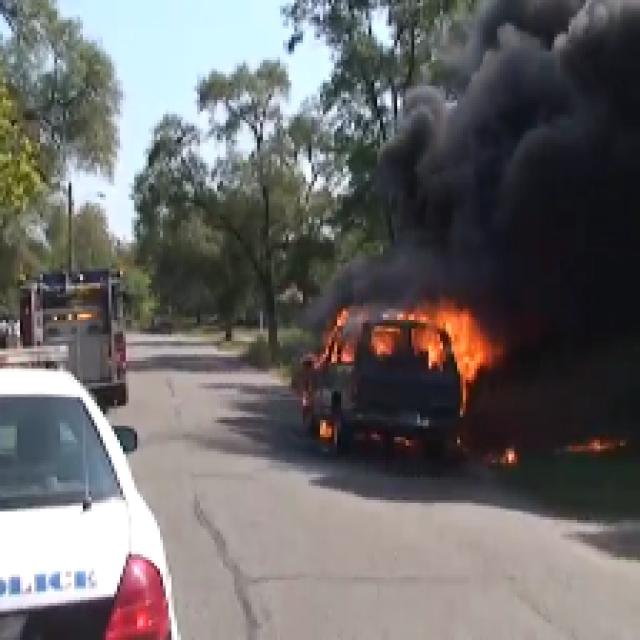fire: (408, 304, 486, 372)
smoke: (416, 28, 640, 298), (500, 309, 633, 425)
